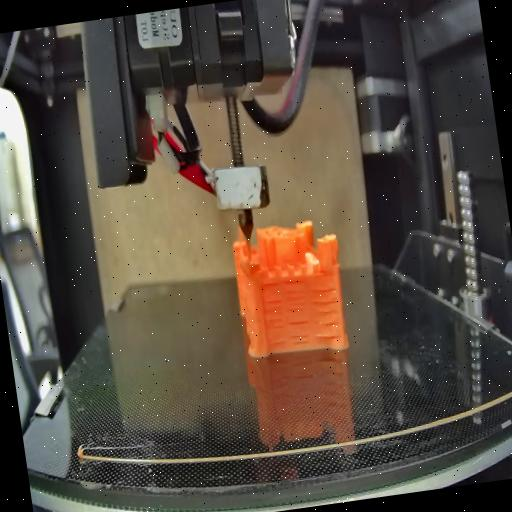cracks: (306, 285, 342, 341), (263, 297, 290, 348), (284, 281, 308, 312), (288, 318, 312, 346), (260, 278, 282, 290)
